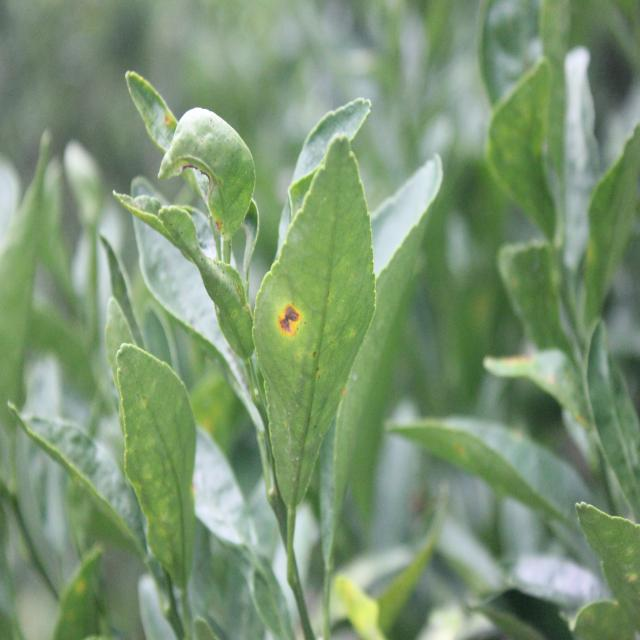canker: (128, 61, 254, 278), (272, 276, 358, 396)
